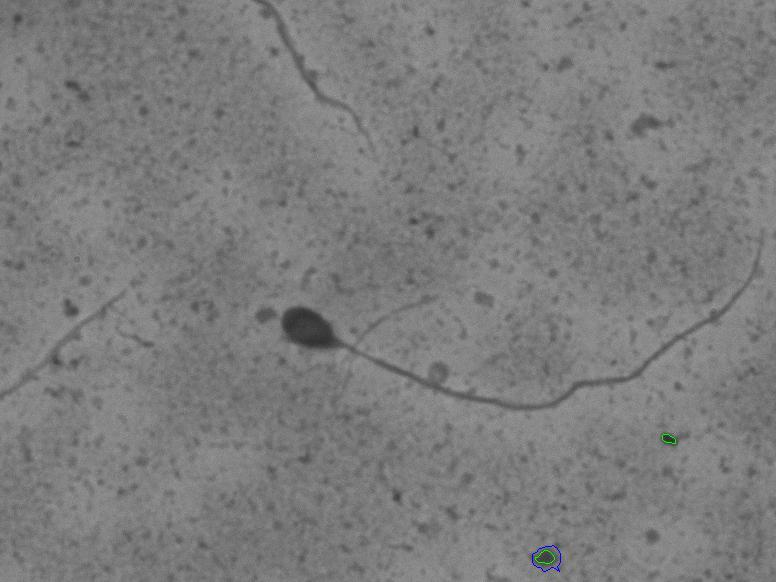Normal: (275, 188, 753, 433)
